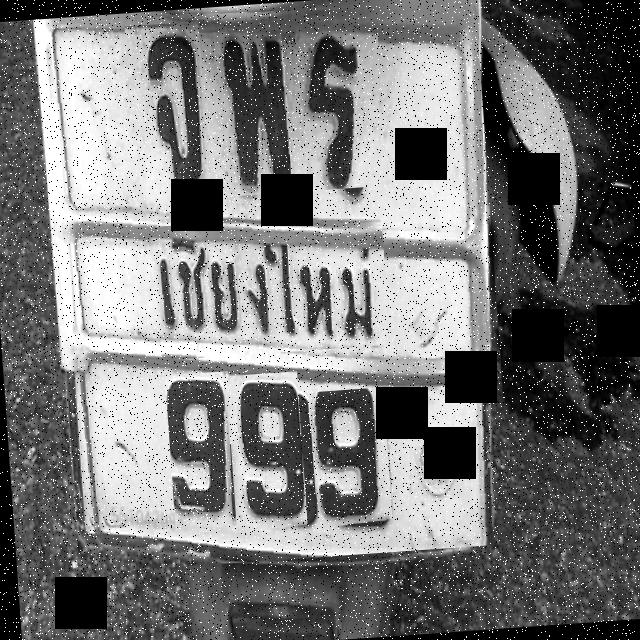letters: (294, 26, 389, 190), (124, 21, 210, 196), (225, 371, 308, 532), (214, 27, 292, 196), (164, 370, 238, 534), (308, 387, 392, 528)
license-plate: (52, 7, 497, 552)
province: (150, 210, 390, 360)
